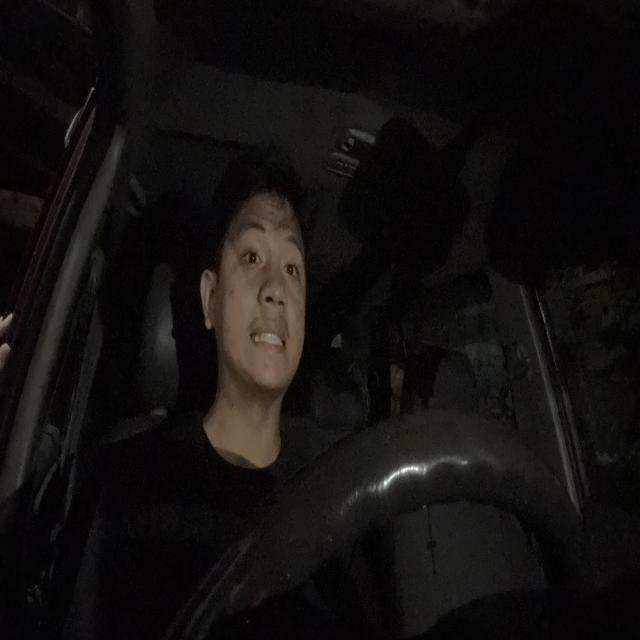open: (232, 220, 268, 278), (279, 235, 301, 297)
